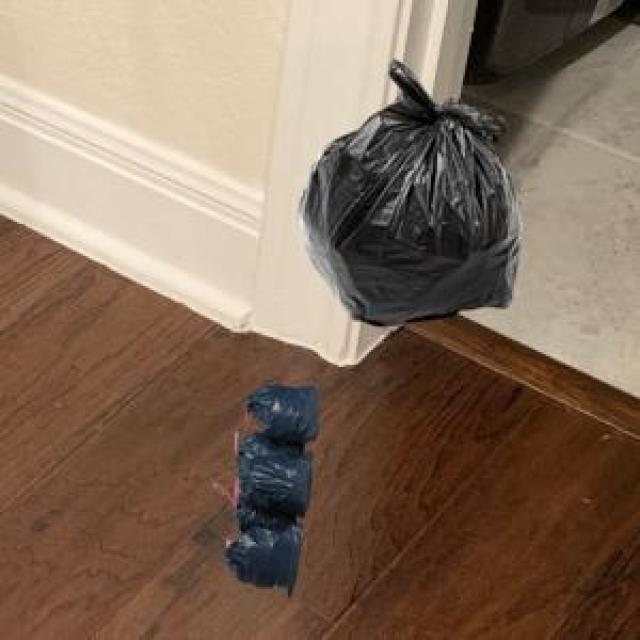Vinyl: (300, 60, 519, 325), (228, 385, 318, 591)
